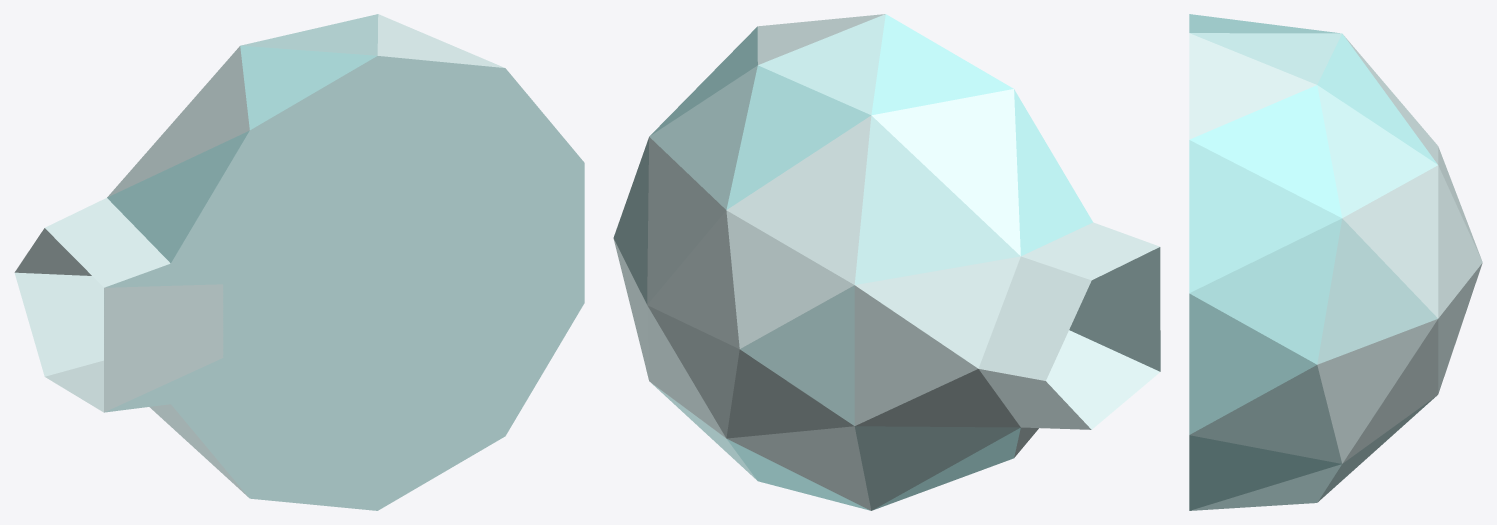
Rendered from winter_igloo.fbx.
The picture shows the model from 3 angles, left to right: view 1: azimuth 30°, elevation 25°; view 2: azimuth 150°, elevation 25°; view 3: azimuth 270°, elevation 25°; orthographic projection.
Visible parts, largest first — view 1: winter_igloo; view 2: winter_igloo; view 3: winter_igloo.
Boxes of the visible parts, bbox=[...] form: winter_igloo: bbox=[14, 14, 584, 510]; winter_igloo: bbox=[613, 14, 1160, 510]; winter_igloo: bbox=[1189, 14, 1482, 510].
Bounding box in the file's own units: 163 × 147 × 85.19.
